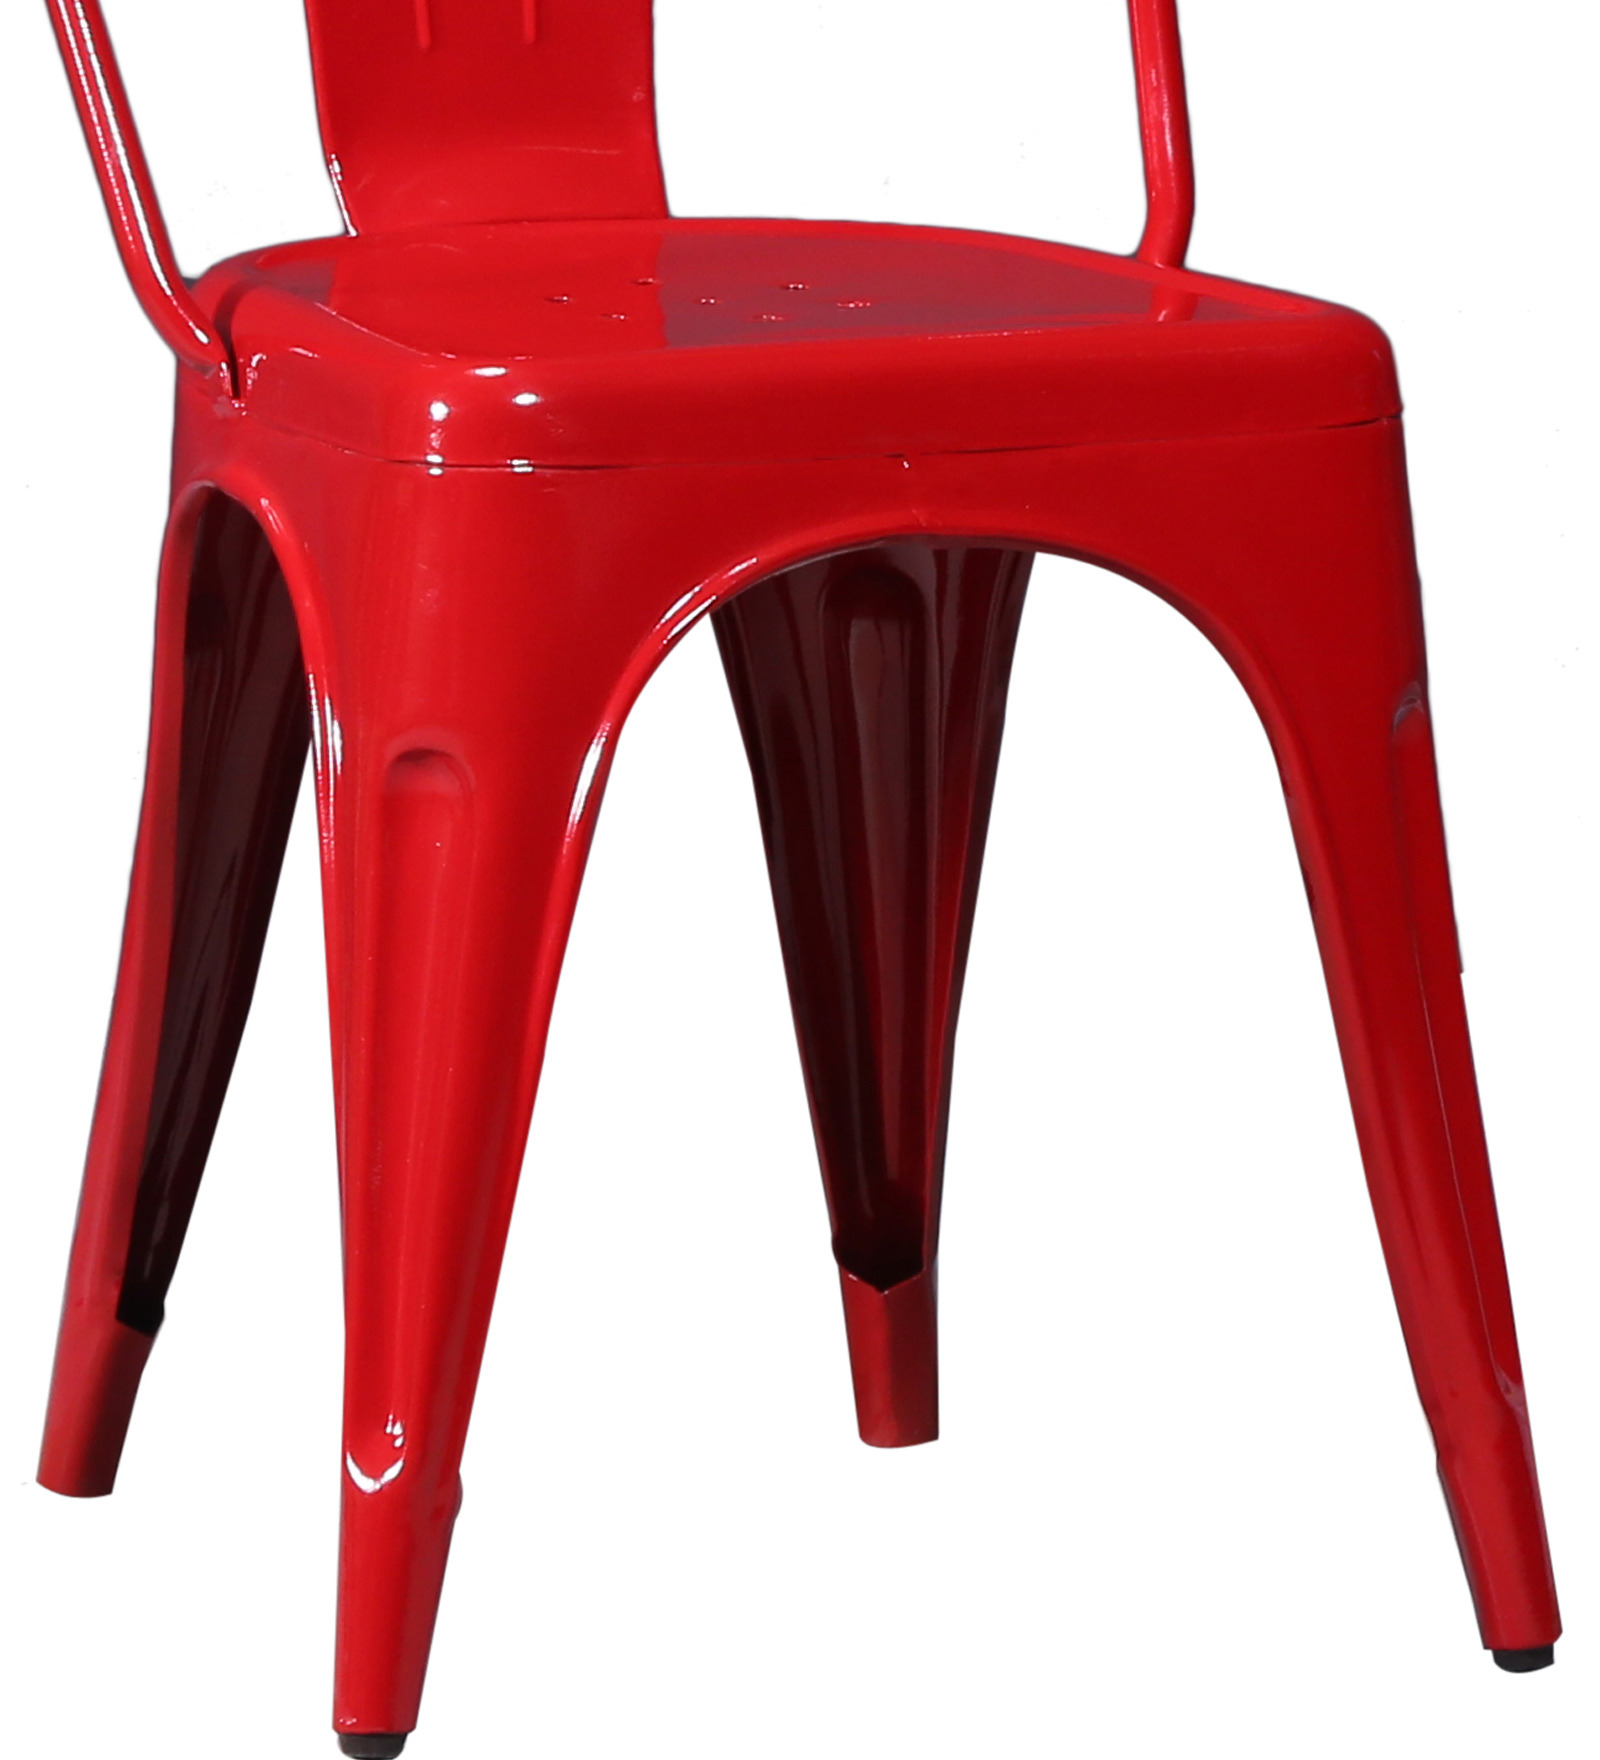Ekati Metal Chair in Red Color by Bohemiana: (14, 2, 1600, 1758)
